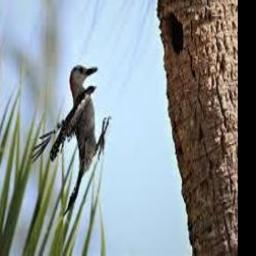Woodpecker: (29, 66, 111, 215)
